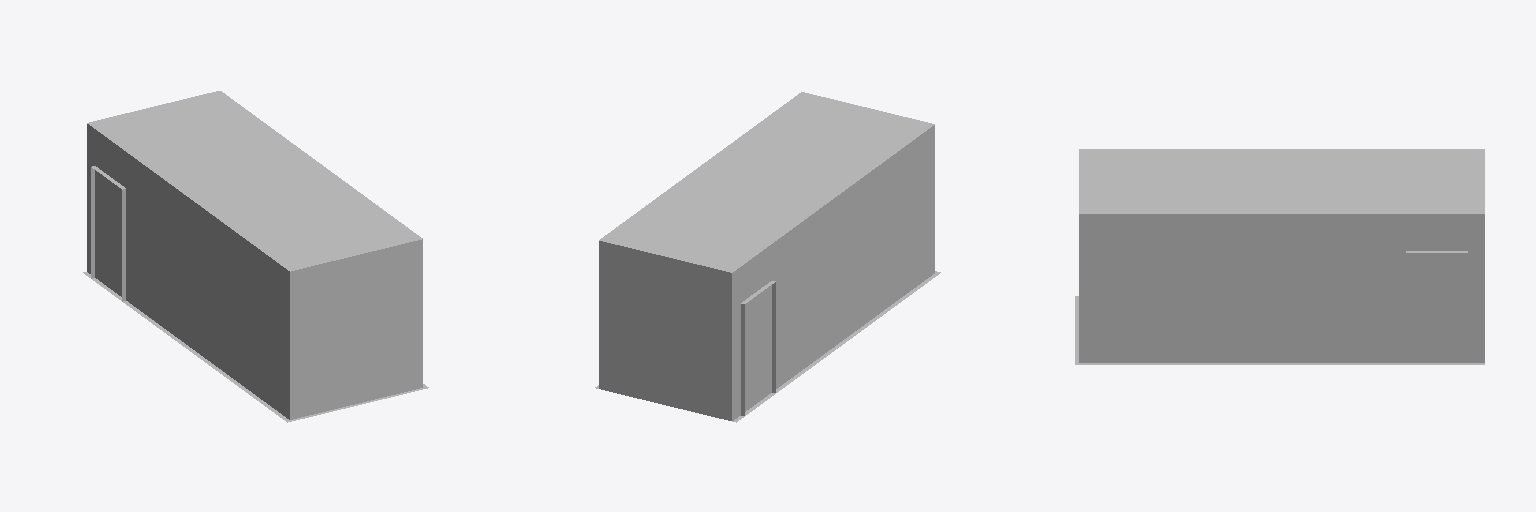
The picture shows the model from 3 angles: view 1: azimuth 30°, elevation 25°; view 2: azimuth 150°, elevation 25°; view 3: azimuth 270°, elevation 25°; orthographic projection.
Visible parts, largest first — view 1: target_fp_1_rmd_Plane.010, source_floorplan_Plane.007; view 2: target_fp_1_rmd_Plane.010, source_floorplan_Plane.007; view 3: target_fp_1_rmd_Plane.010, source_floorplan_Plane.007.
Boxes of the visible parts, <box> form: target_fp_1_rmd_Plane.010: <box>87,91,422,419</box>; source_floorplan_Plane.007: <box>83,272,428,422</box>; target_fp_1_rmd_Plane.010: <box>599,92,934,420</box>; source_floorplan_Plane.007: <box>595,271,940,422</box>; target_fp_1_rmd_Plane.010: <box>1079,149,1484,364</box>; source_floorplan_Plane.007: <box>1075,296,1484,364</box>.
Size of the model in its own units: 4 by 4 by 10.